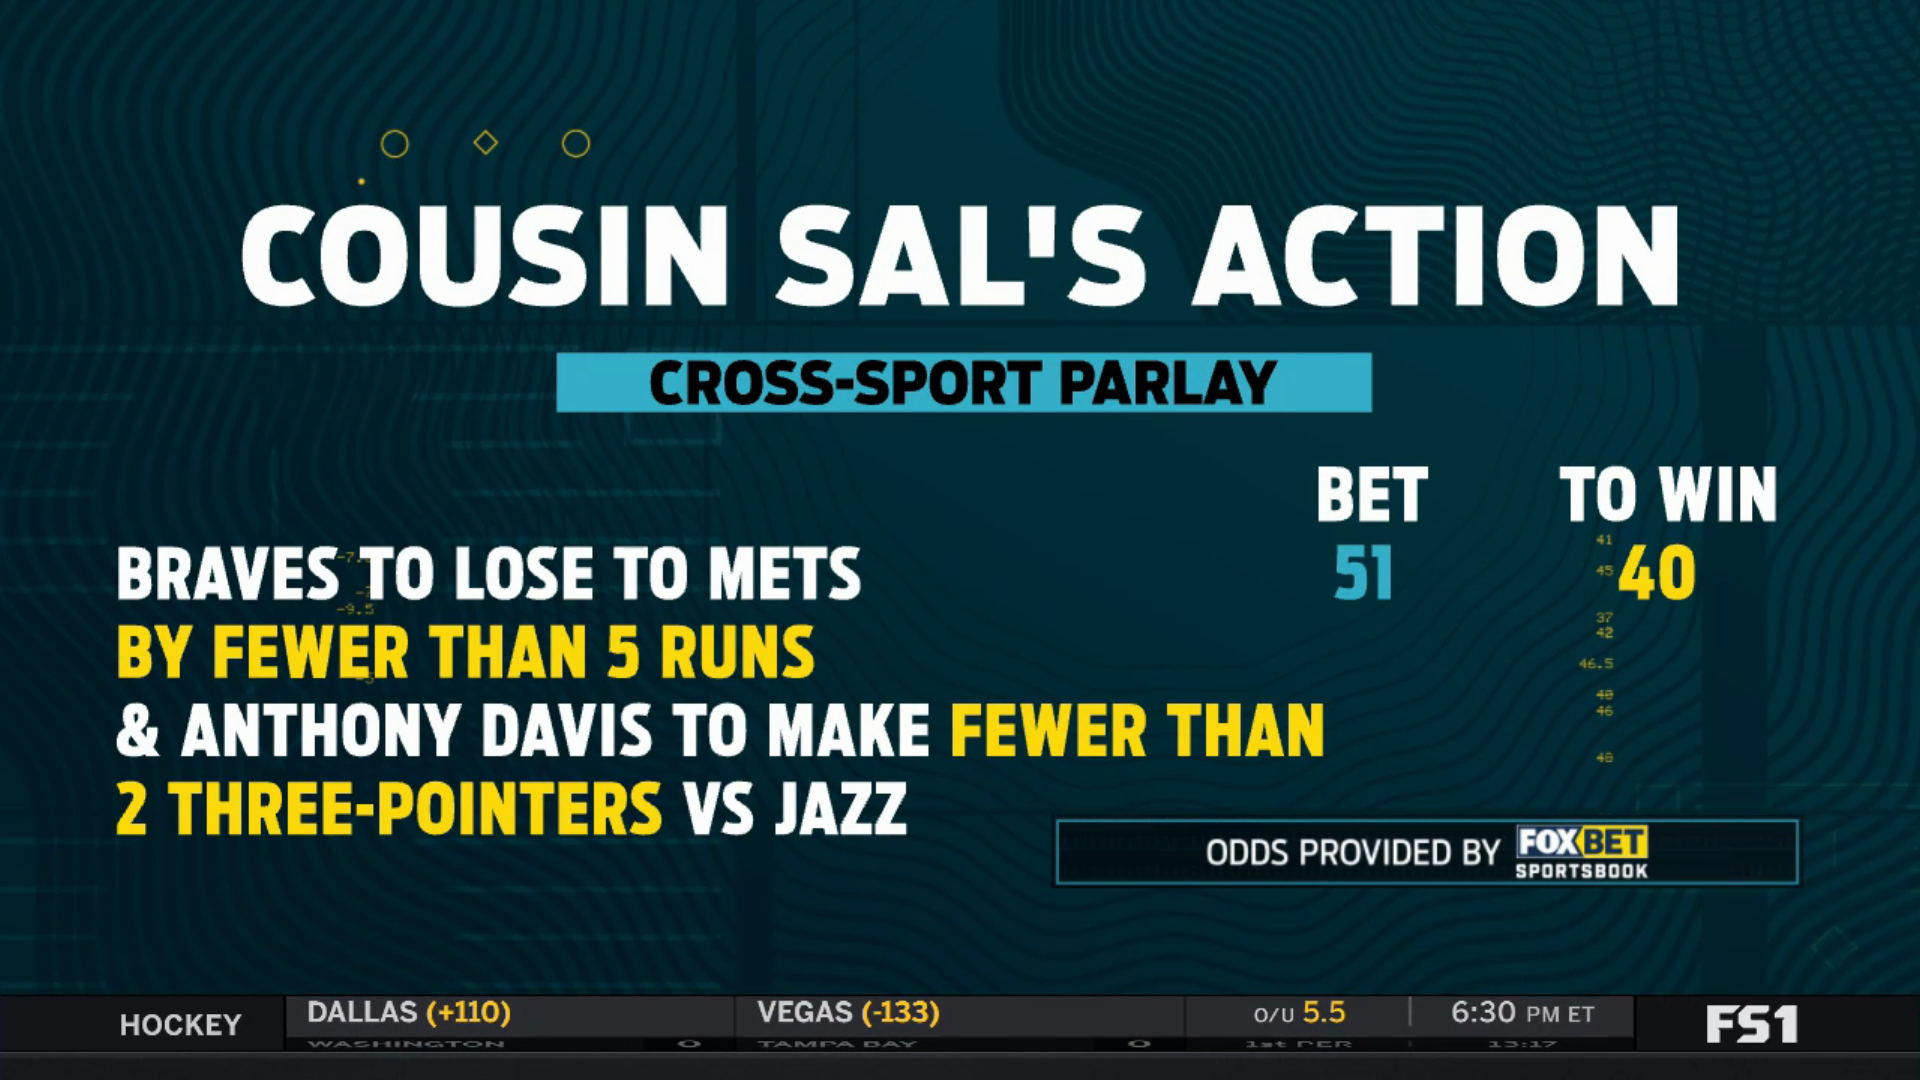Bet: (100, 531, 1333, 844)
Bet Amount: (1304, 448, 1440, 616)
Subtitle: (545, 343, 1393, 423)
Title: (224, 189, 1697, 328)
To Win: (1549, 455, 1784, 612)
